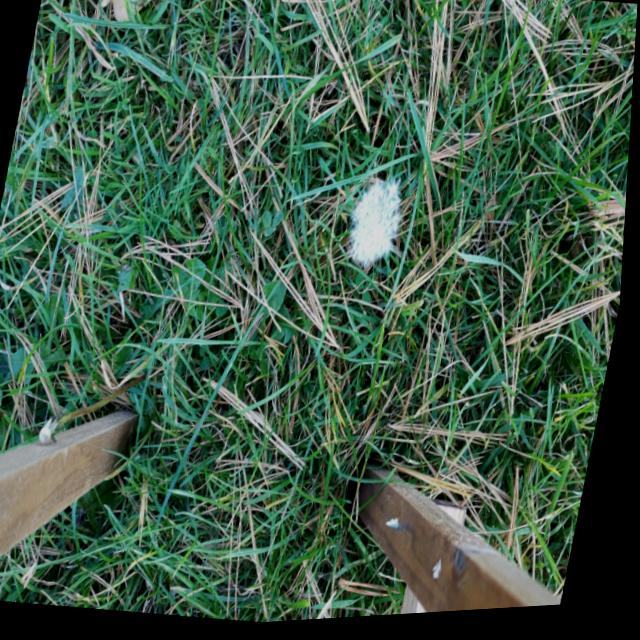base: (299, 258, 326, 297), (137, 356, 163, 396)
